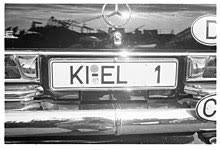1: (152, 64, 164, 84)
C: (202, 98, 219, 117)
D: (204, 19, 218, 39)
E: (100, 66, 115, 85)
I: (84, 64, 91, 84)
K: (68, 64, 84, 84)
L: (116, 64, 129, 84)
